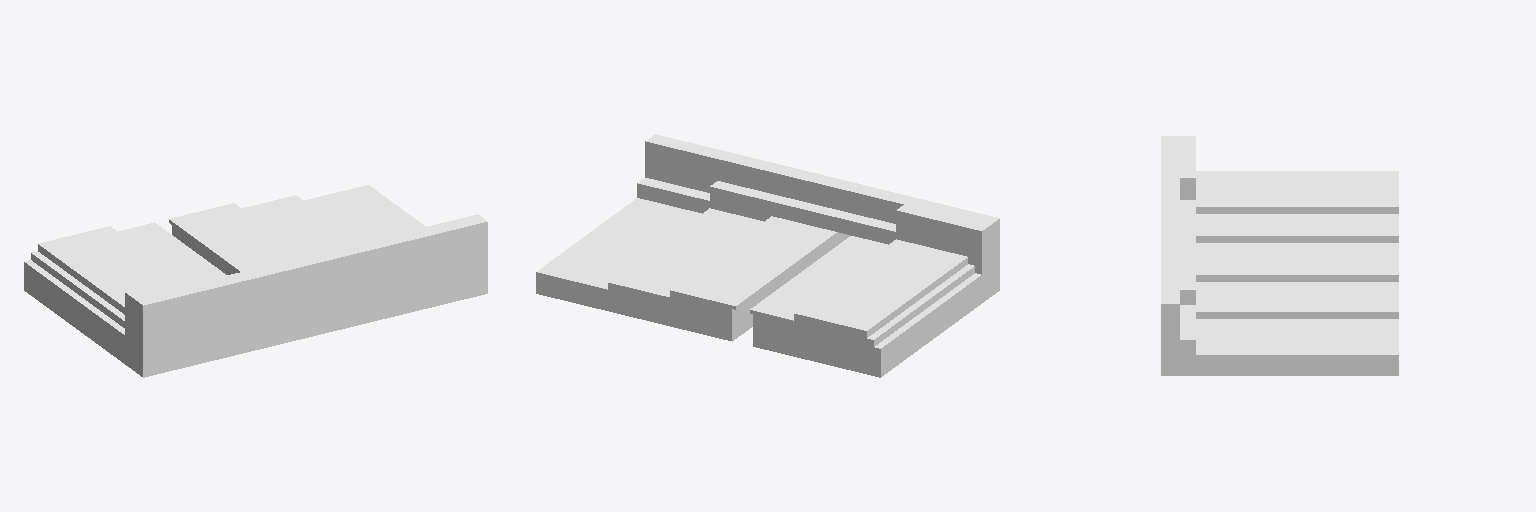
The model's file is Map_1_2.obj.
3 renders of one model, left to right at view 1: azimuth 30°, elevation 25°; view 2: azimuth 150°, elevation 25°; view 3: azimuth 270°, elevation 25°, orthographic.
Parts seen in each view (by area): view 1: Map_1_2; view 2: Map_1_2; view 3: Map_1_2.
Part boxes in pixels (x1,y1,x2,y2): Map_1_2: (24, 185, 487, 377); Map_1_2: (536, 134, 999, 377); Map_1_2: (1161, 136, 1398, 375).
Size of the model in its own units: 10 by 2 by 6.